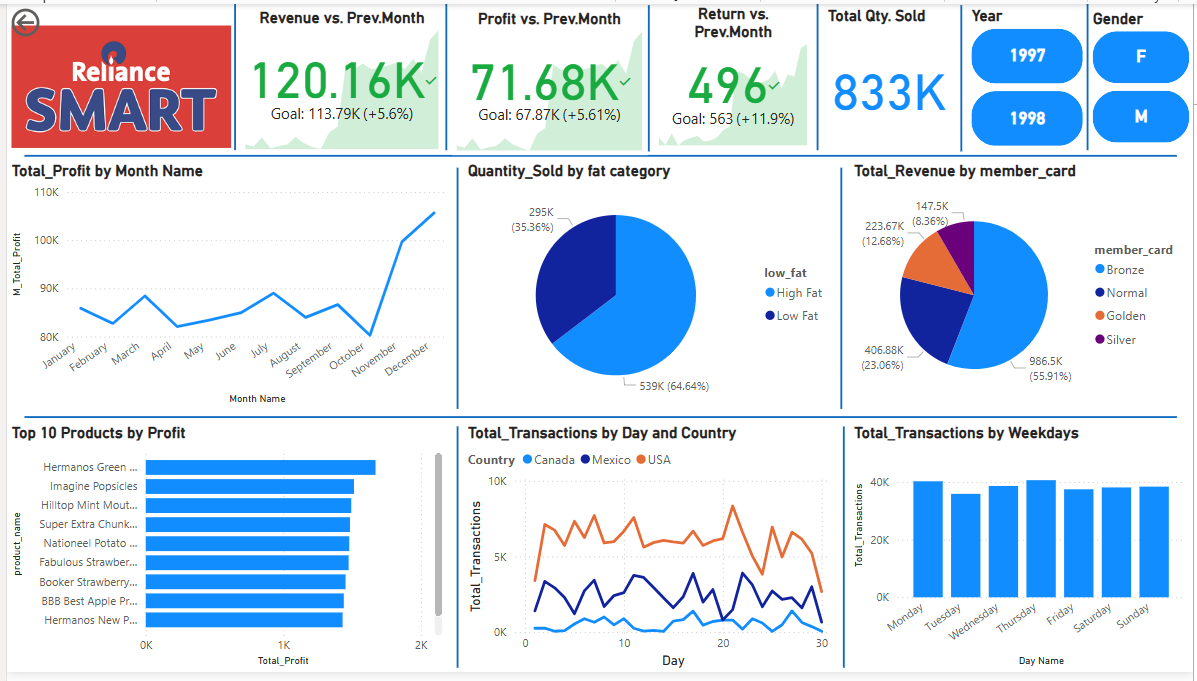

This screenshot's page, from the dashboard's own definition file:
{"tool":"powerbi","page":{"name":"Primary Report","canvas":[1280,720],"ordinal":0},"visuals":[{"type":"image","box":[0,0,246.6,178],"z":0},{"type":"shape","box":[18.9,157.7,1242.5,12.1],"z":1000},{"type":"shape","box":[479.8,176.5,12.1,260.1],"z":2000},{"type":"shape","box":[893.5,176.5,12.1,260.1],"z":3000},{"type":"shape","box":[239.9,0,12.1,157.7],"z":4000},{"type":"kpi","title":"Revenue vs. Prev.Month","fields":{"Indicator":["Measures (2).M_Total_Revenue"],"TrendLine":["d_Calendar.Start of Month"],"Goal":["Measures (2).M_Previous_Month_Revenue"]},"box":[252,4,218.3,157.7],"z":5000},{"type":"kpi","title":"Profit vs. Prev.Month","fields":{"TrendLine":["d_Calendar.Start of Month"],"Indicator":["Measures (2).M_Total_Profit"],"Goal":["Measures (2).M_Previous_Month_Profit"]},"box":[479.8,5.4,210.2,157.7],"z":6000},{"type":"shape","box":[467.6,0,12.1,157.7],"z":7000},{"type":"shape","box":[686,1.3,12.1,157.7],"z":8000},{"type":"kpi","title":"Return vs. Prev.Month","fields":{"TrendLine":["d_Calendar.Start of Month"],"Indicator":["Measures (2).M_Total_Returns"],"Goal":["Measures (2).M_Previous_MOnth_Return"]},"box":[698.1,0,169.8,157.7],"z":9000},{"type":"barChart","title":"Top 10 Products by Profit","fields":{"Category":["d_Products.product_name"],"Y":["Measures (2).M_Total_Profit"]},"box":[0,451.5,474.4,268.2],"z":10000},{"type":"lineChart","fields":{"Y":["Measures (2).M_Total_Transactions"],"Category":["d_Calendar.date.Variation.Date Hierarchy.Year","d_Calendar.date.Variation.Date Hierarchy.Quarter","d_Calendar.date.Variation.Date Hierarchy.Month","d_Calendar.date.Variation.Date Hierarchy.Day"],"Series":["d_Customers.customer_country"]},"box":[491.9,451.5,401.6,269.5],"z":11000},{"type":"actionButton","box":[0,0,100,40],"z":12000},{"type":"card","title":"Total Qty. Sold","fields":{"Values":["Measures (2).M_Quantity_Sold"]},"box":[880,2.7,142.9,152.3],"z":13000},{"type":"advancedSlicerVisual","fields":{"Values":["d_Calendar.Year"]},"box":[1035,2.7,130.7,156.3],"z":14000},{"type":"advancedSlicerVisual","title":"Gender","fields":{"Values":["d_Customers.gender"]},"box":[1165.7,5.4,114.6,149.6],"z":15000},{"type":"columnChart","title":"Total_Transactions by Weekdays","fields":{"Y":["Measures (2).M_Total_Transactions"],"Category":["d_Calendar.Day Name"]},"box":[908.3,451.5,366.6,268.2],"z":16000},{"type":"pieChart","fields":{"Y":["Measures (2).M_Total_Revenue"],"Category":["d_Customers.member_card"]},"box":[908.3,169.8,372,269.5],"z":17000},{"type":"lineChart","title":"Total_Profit by Month Name","fields":{"Y":["Measures (2).M_Total_Profit"],"Category":["d_Calendar.Month Name"]},"box":[0,169.8,479.8,266.8],"z":18000},{"type":"pieChart","title":"Quantity_Sold by fat category","fields":{"Y":["Measures (2).M_Quantity_Sold"],"Category":["d_Products.low_fat"]},"box":[491.9,169.8,401.6,269.5],"z":19000},{"type":"shape","box":[867.9,0,12.1,157.7],"z":20000},{"type":"shape","box":[1022.9,1.3,12.1,157.7],"z":21000},{"type":"shape","box":[1159,0,12.1,157.7],"z":22000},{"type":"shape","box":[18.9,439.3,1242.5,12.1],"z":23000},{"type":"shape","box":[479.8,455.5,12.1,260.1],"z":24000},{"type":"shape","box":[896.2,455.5,12.1,260.1],"z":25000}]}

Visuals, with their boxes in screenshot pixels (x1, y1, x2, y2), scaled from the page's 1280x720 canvas onto the 1197x681 screenshot:
image: box=[0, 0, 231, 168]
shape: box=[18, 149, 1180, 161]
shape: box=[449, 167, 460, 413]
shape: box=[836, 167, 847, 413]
shape: box=[224, 0, 236, 149]
"Revenue vs. Prev.Month" kpi: box=[236, 4, 440, 153]
"Profit vs. Prev.Month" kpi: box=[449, 5, 645, 154]
shape: box=[437, 0, 449, 149]
shape: box=[642, 1, 653, 150]
"Return vs. Prev.Month" kpi: box=[653, 0, 812, 149]
"Top 10 Products by Profit" barChart: box=[0, 427, 444, 680]
lineChart - Measures (2).M_Total_Transactions x d_Calendar.date.Variation.Date Hierarchy.Year: box=[460, 427, 836, 680]
actionButton: box=[0, 0, 94, 38]
"Total Qty. Sold" card: box=[823, 3, 957, 147]
advancedSlicerVisual - d_Calendar.Year: box=[968, 3, 1090, 150]
"Gender" advancedSlicerVisual: box=[1090, 5, 1196, 147]
"Total_Transactions by Weekdays" columnChart: box=[849, 427, 1192, 680]
pieChart - Measures (2).M_Total_Revenue x d_Customers.member_card: box=[849, 161, 1196, 416]
"Total_Profit by Month Name" lineChart: box=[0, 161, 449, 413]
"Quantity_Sold by fat category" pieChart: box=[460, 161, 836, 416]
shape: box=[812, 0, 823, 149]
shape: box=[957, 1, 968, 150]
shape: box=[1084, 0, 1095, 149]
shape: box=[18, 416, 1180, 427]
shape: box=[449, 431, 460, 677]
shape: box=[838, 431, 849, 677]
